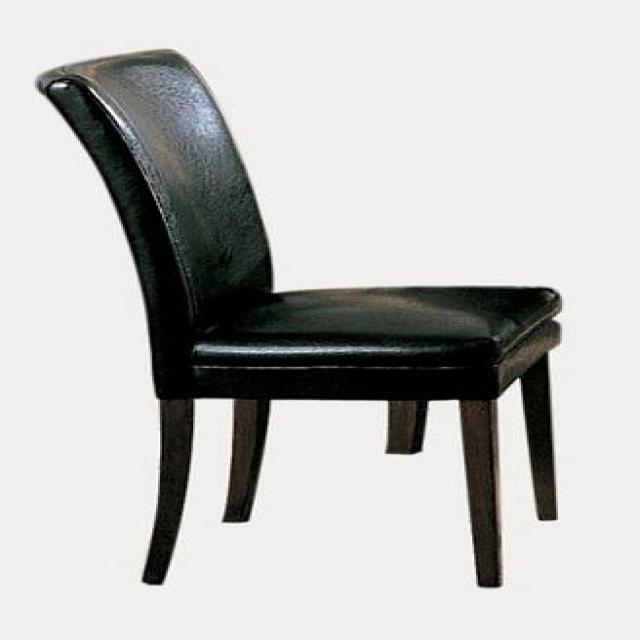chair: (33, 46, 564, 589)
